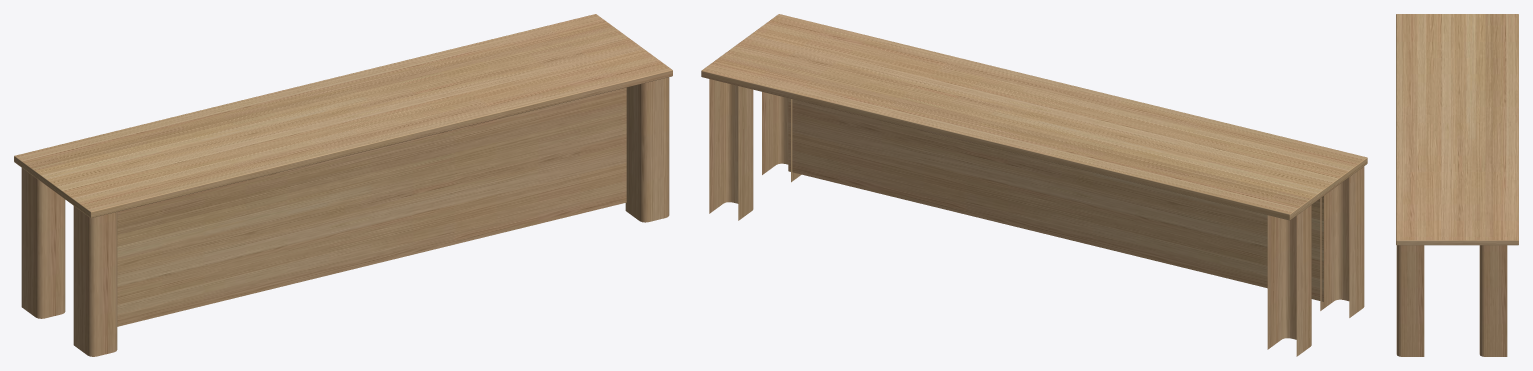
File: Table.fbx
The picture shows the model from 3 angles, left to right: view 1: azimuth 30°, elevation 25°; view 2: azimuth 150°, elevation 25°; view 3: azimuth 270°, elevation 25°; orthographic projection. The views are drawn at different scales.
Visible parts, largest first — view 1: Table_01; view 2: Table_01; view 3: Table_01.
Boxes of the visible parts, box(x1,y1,x2,y2) form: Table_01: box(14, 14, 672, 356); Table_01: box(701, 14, 1367, 356); Table_01: box(1396, 14, 1518, 356).
Size of the model in its own units: 214 by 51.55 by 49.04.
Materials: 1 (1 with a texture image).
